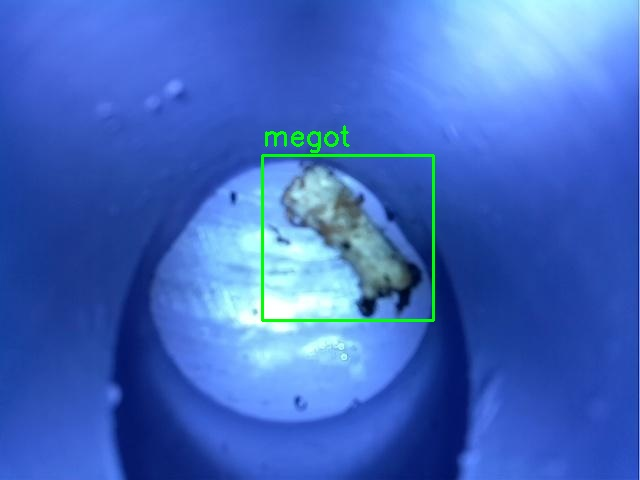megot: (262, 155, 433, 320)
